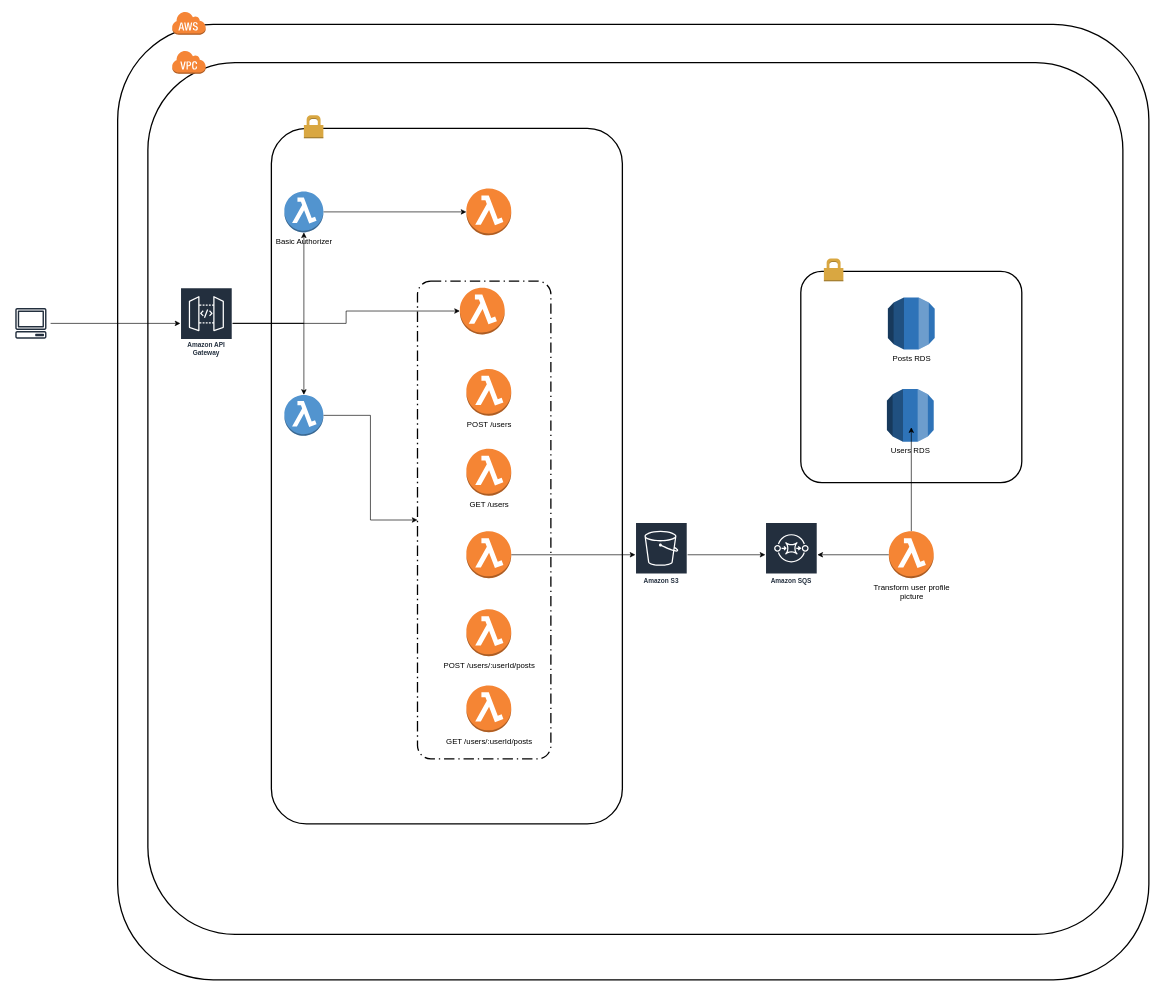
Image size: 1161x992. Some labels were removed from this diagram. Each missing label, with the centre of its shape:
"Client" goes at (x=30, y=323).
"JWT Authorizer" goes at (x=303, y=415).
"POST /admins" goes at (x=488, y=211).
"POST /login" goes at (x=482, y=310).
"PUT /users/:userId" goes at (x=488, y=554).
